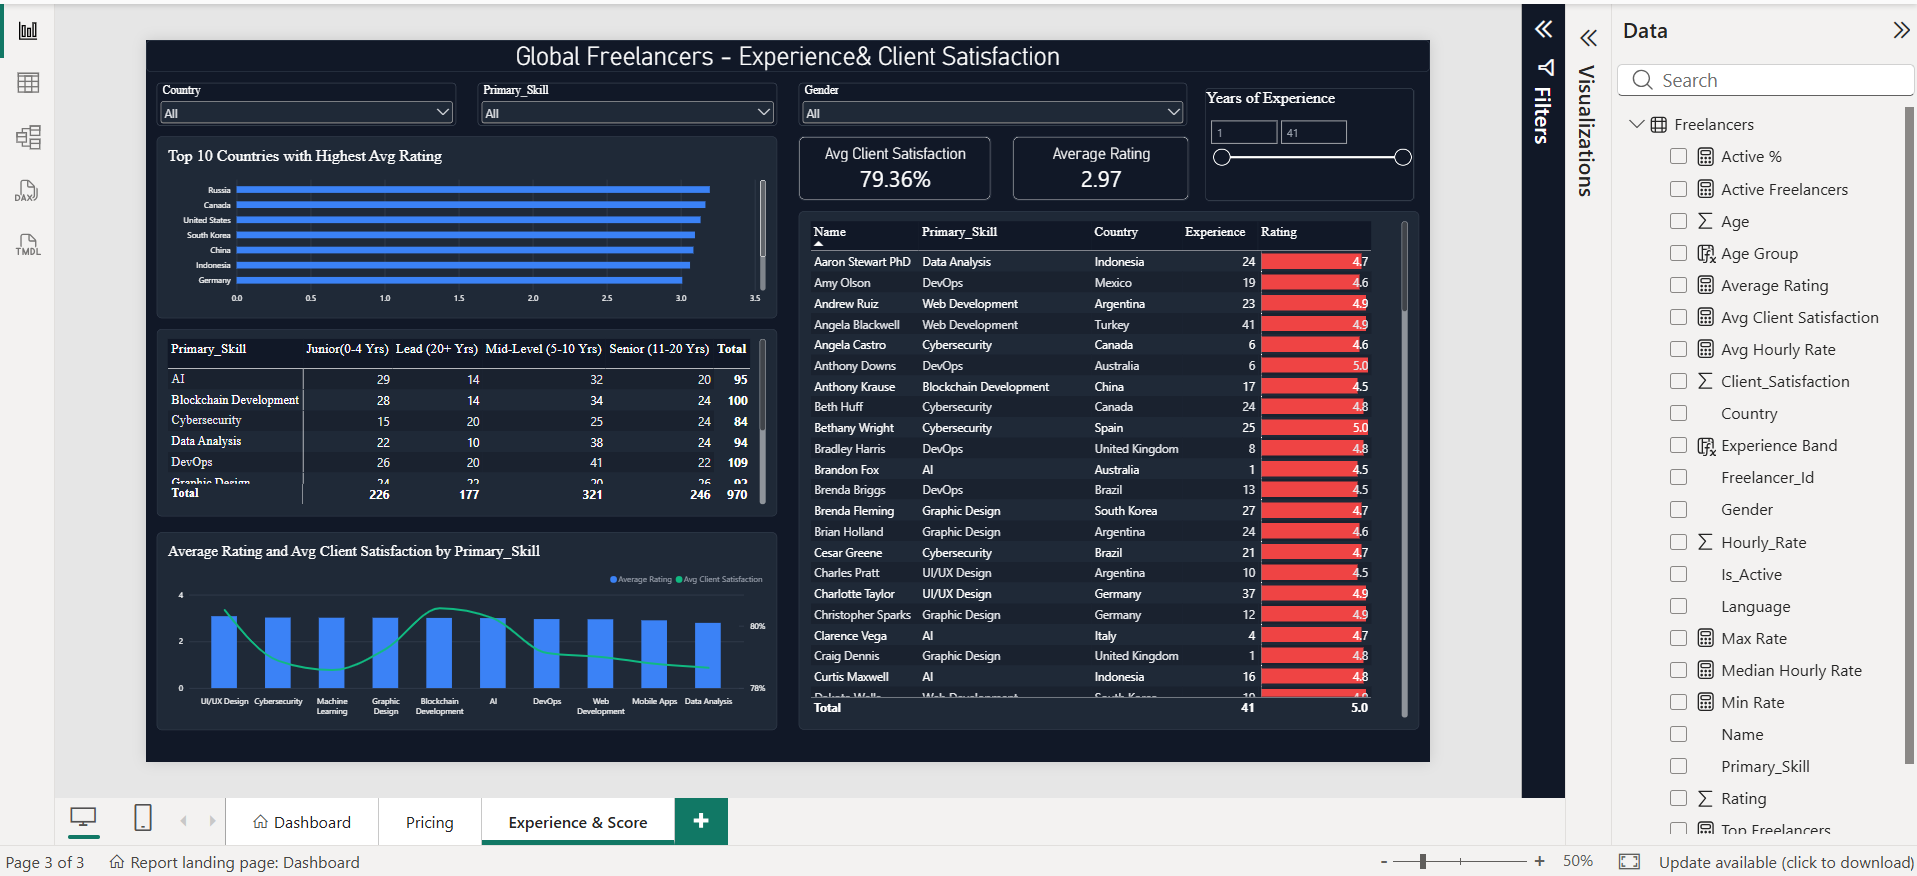

The dashboard page shown, as its layout file describes it:
{"tool":"powerbi","page":{"name":"Experience & Score","canvas":[1920,1080],"ordinal":2},"visuals":[{"type":"textbox","box":[0,0,1920,48],"z":0},{"type":"slicer","fields":{"Values":["Freelancers.Country"]},"box":[16,64,448,64],"z":1000},{"type":"slicer","fields":{"Values":["Freelancers.Primary_Skill"]},"box":[496,64,448,64],"z":2000},{"type":"slicer","fields":{"Values":["Freelancers.Gender"]},"box":[976,64,581,64],"z":3000},{"type":"cardVisual","fields":{"Data":["Freelancers.Avg Clent Satisfaction"]},"box":[976,144,288,96],"z":4000},{"type":"pivotTable","fields":{"Columns":["Freelancers.Experience Band"],"Rows":["Freelancers.Primary_Skill"],"Values":["Freelancers.Total Freelancers"]},"box":[16,432,928,280],"z":5000},{"type":"slicer","title":"Years of Experience","fields":{"Values":["Freelancers.Years_Of_Experience_Imputed"]},"box":[1584,72,312,168],"z":6000},{"type":"tableEx","fields":{"Values":["Freelancers.Name","Freelancers.Primary_Skill","Freelancers.Country","Max(Freelancers.Years_Of_Experience_Imputed)","Max(Freelancers.Rating)"]},"box":[976,256,928,775],"z":7000},{"type":"lineClusteredColumnComboChart","fields":{"Category":["Freelancers.Primary_Skill"],"Y":["Freelancers.Average Rating"],"Y2":["Freelancers.Avg Client Satisfaction"]},"box":[16,736,928,296],"z":8000},{"type":"clusteredBarChart","title":"Top 10 Countries with Highest Avg Rating","fields":{"Category":["Freelancers.Country"],"Y":["Avg(Freelancers.Rating)"]},"box":[16,144,928,272],"z":9000},{"type":"cardVisual","fields":{"Data":["Freelancers.Average Rating"]},"box":[1296,144,264,96],"z":10000}]}

Visuals, with their boxes on the page's 1920x1080 design canvas (x1, y1, x2, y2). These are canvas units, not pixel positions in the 1917x876 screenshot, which may show the page scaled, cropped or inside an application window:
textbox: [0,0,1920,48]
slicer - Freelancers.Country: [16,64,464,128]
slicer - Freelancers.Primary_Skill: [496,64,944,128]
slicer - Freelancers.Gender: [976,64,1557,128]
cardVisual - Freelancers.Avg Clent Satisfaction: [976,144,1264,240]
pivotTable - Freelancers.Experience Band x Freelancers.Primary_Skill: [16,432,944,712]
"Years of Experience" slicer: [1584,72,1896,240]
tableEx - Freelancers.Name x Freelancers.Primary_Skill: [976,256,1904,1031]
lineClusteredColumnComboChart - Freelancers.Primary_Skill x Freelancers.Average Rating: [16,736,944,1032]
"Top 10 Countries with Highest Avg Rating" clusteredBarChart: [16,144,944,416]
cardVisual - Freelancers.Average Rating: [1296,144,1560,240]
